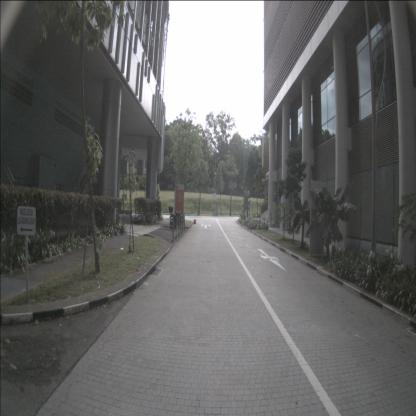vehicle-motorcycle: (168, 206, 184, 229)
